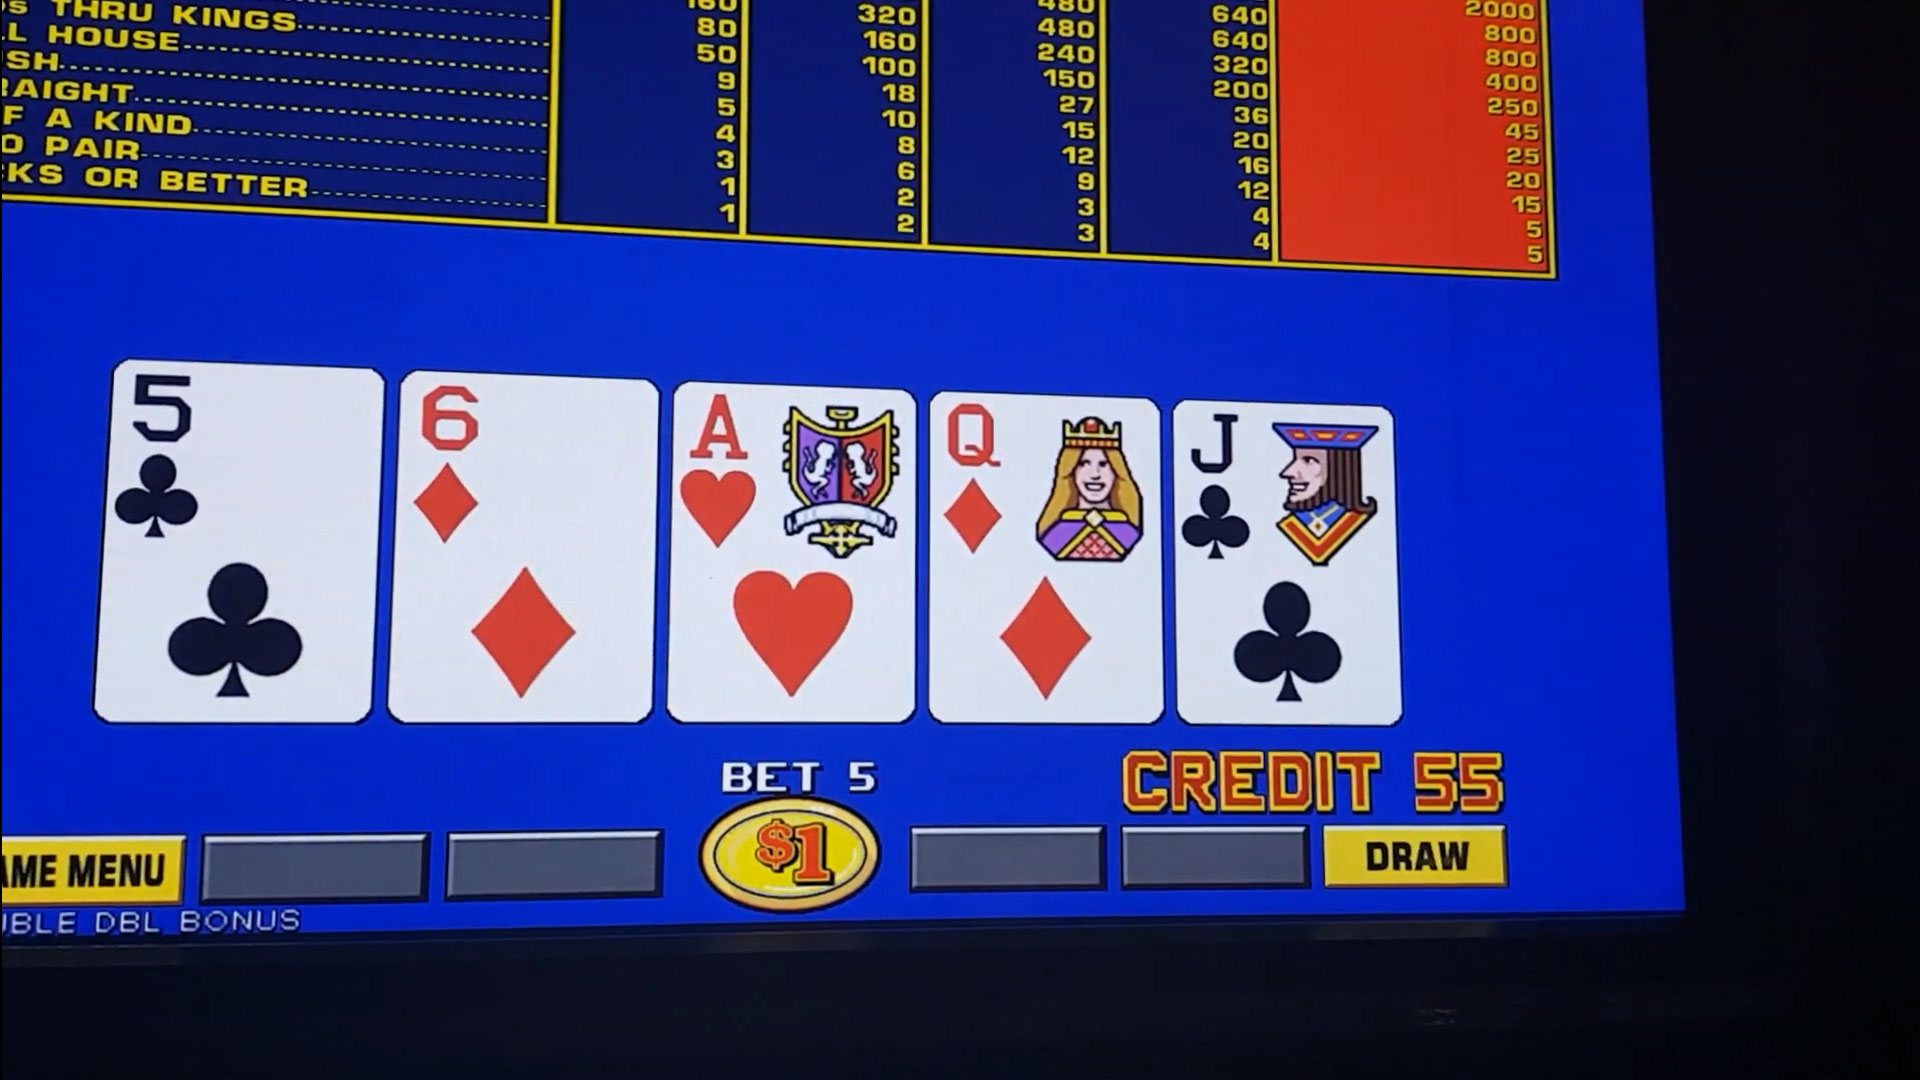C5: (117, 372, 382, 554)
CJ: (1180, 406, 1385, 575)
D6: (400, 376, 647, 558)
DQ: (931, 398, 1155, 579)
HA: (676, 386, 911, 558)
